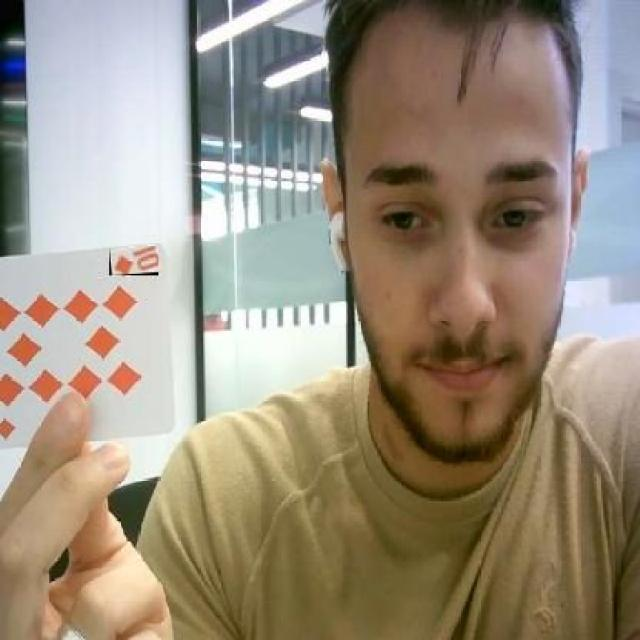10D: (110, 247, 158, 276)
